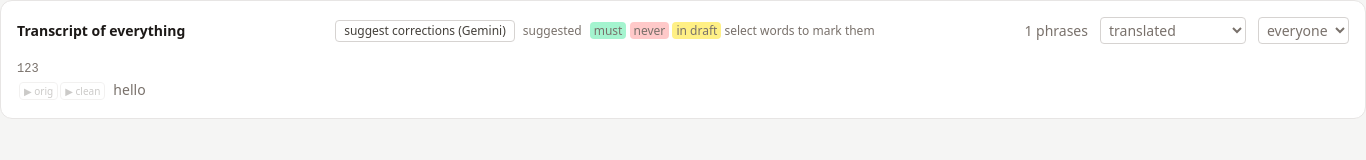
Test case: TranscriptPanel › renders an empty state when filtered by "you" but no such segments exist
Expected: the text "hello" is shown, [111, 80, 148, 99]
Select "only you" in the 2nd dropdown: (1304,30) [1258, 17, 1349, 44]
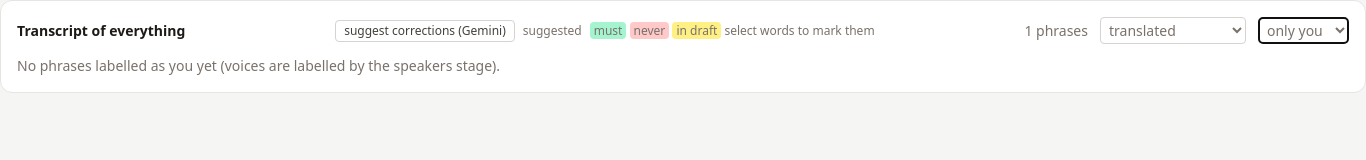
Now the text "No phrases labelled as you yet (voices are labelled by the speakers stage)." is shown, box [17, 56, 500, 75]
